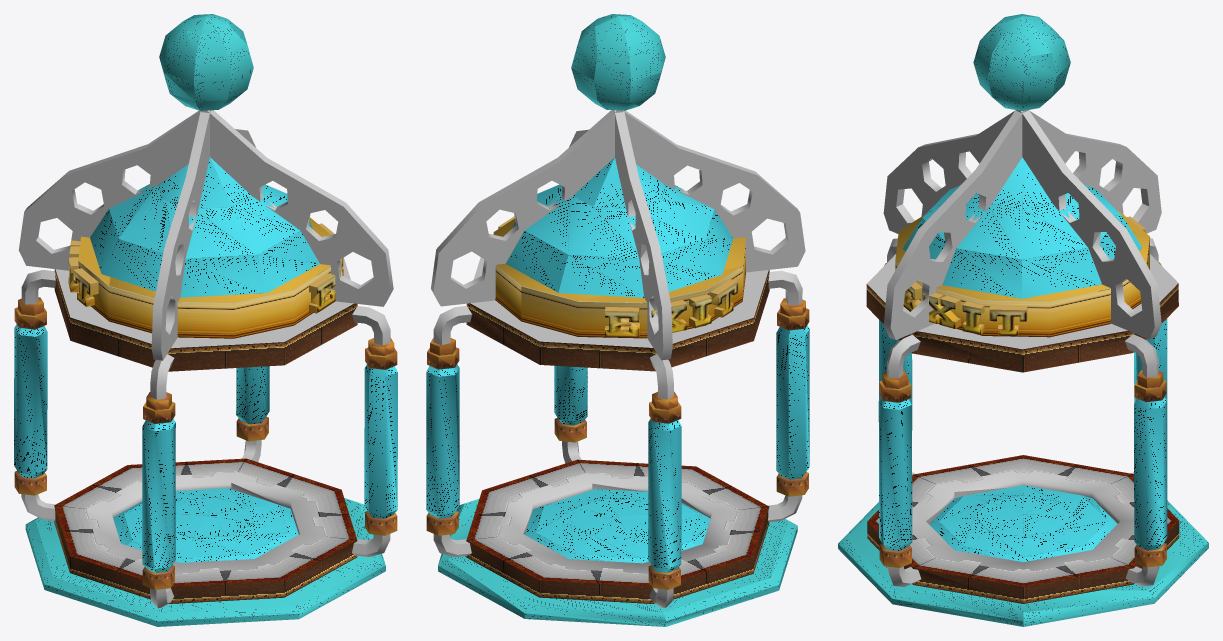
File: Chao Lobby Exit.obj
3 renders of one model, left to right at view 1: azimuth 30°, elevation 25°; view 2: azimuth 150°, elevation 25°; view 3: azimuth 270°, elevation 25°, orthographic.
Visible parts, largest first — view 1: Mesh_0074; view 2: Mesh_0074; view 3: Mesh_0074.
Boxes of the visible parts, box(x1,y1,x2,y2) form: Mesh_0074: box(14, 14, 397, 626); Mesh_0074: box(426, 14, 809, 626); Mesh_0074: box(838, 14, 1208, 626).
Size of the model in its own units: 3.8 by 6.03 by 3.8.
